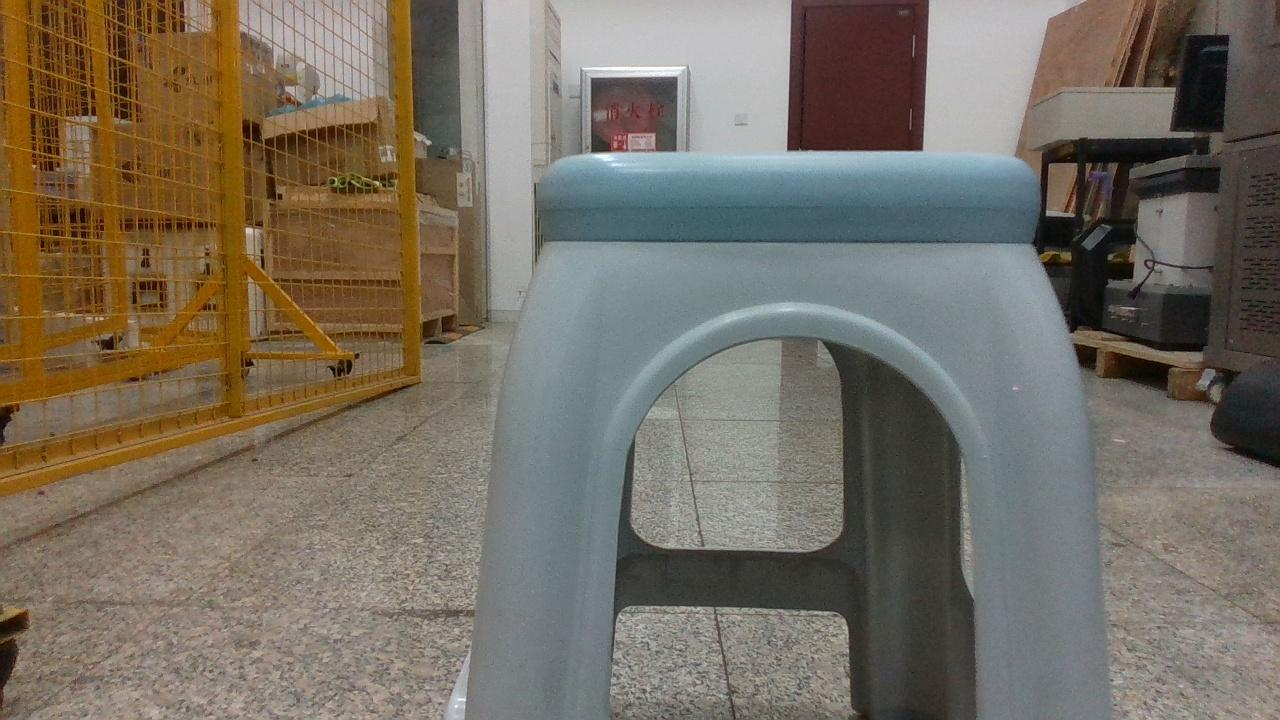stool: (458, 152, 1108, 718)
